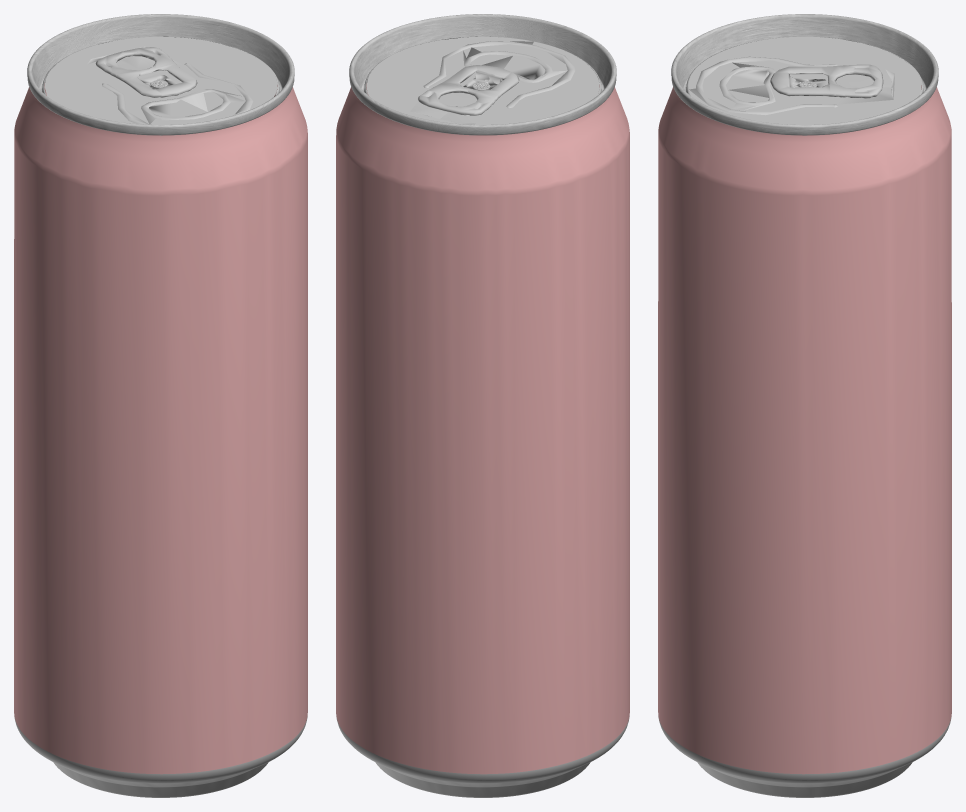
The model's file is can1024.DAE.
3 renders of one model, left to right at view 1: azimuth 30°, elevation 25°; view 2: azimuth 150°, elevation 25°; view 3: azimuth 270°, elevation 25°, orthographic.
Parts seen in each view (by area): view 1: Can, Can Top (Bump), Ring Pull; view 2: Can, Can Top (Bump), Ring Pull; view 3: Can, Can Top (Bump), Ring Pull.
Boxes of the visible parts, bbox=[...] form: Can: bbox=[14, 14, 307, 797]; Can Top (Bump): bbox=[44, 36, 277, 124]; Ring Pull: bbox=[95, 47, 197, 97]; Can: bbox=[336, 14, 629, 797]; Can Top (Bump): bbox=[366, 36, 599, 124]; Ring Pull: bbox=[418, 65, 519, 115]; Can: bbox=[658, 14, 951, 797]; Can Top (Bump): bbox=[688, 36, 921, 124]; Ring Pull: bbox=[770, 64, 883, 98].
Size of the model in its own units: 65.49 by 168 by 65.49.
